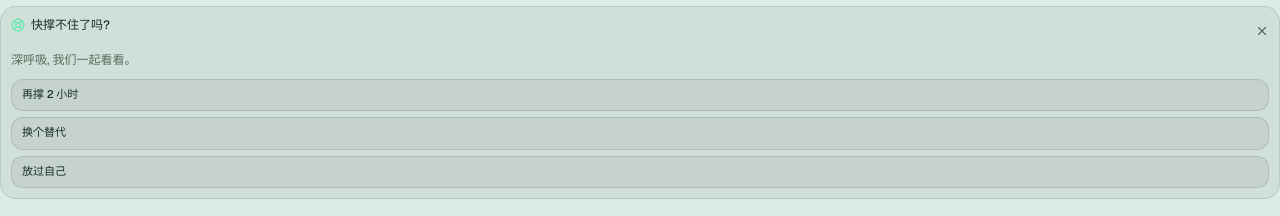
Test: ActiveGuardsSos 降温对话 › 上报失败 → 静默, 暖句照常 (red-line: 不弹错不阻塞)
Click the button "换个替代" at (44,132), box [11,117,1269,150]
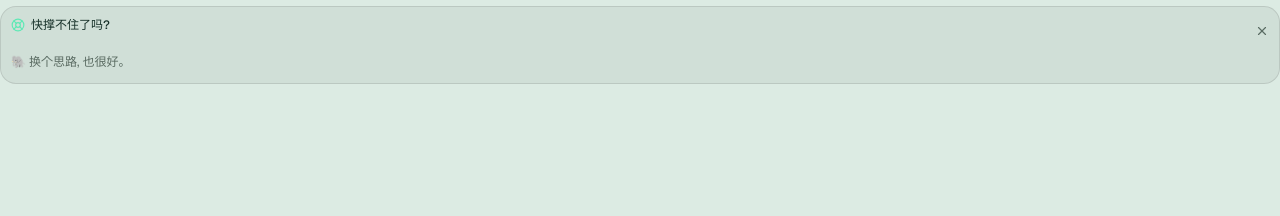
Result: the text with test id "active-guards-sos-done" shows "换个思路" at [29,54,130,70]
